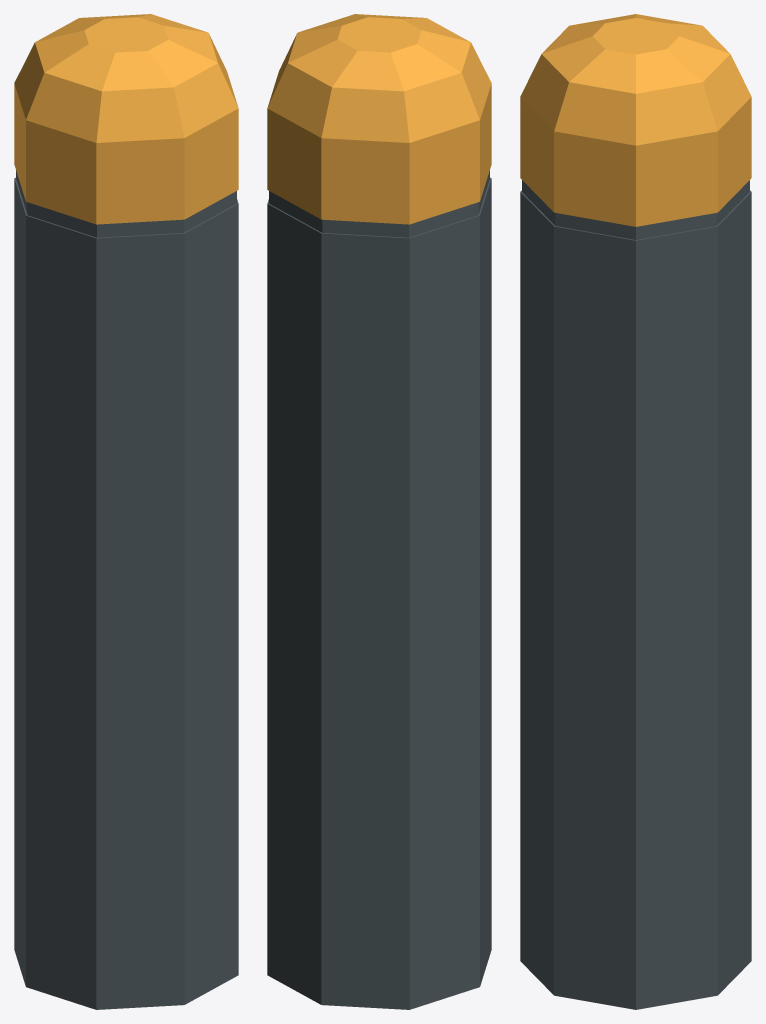
Rendered from SM_road_fence_01.glb.
The picture shows the model from 3 angles, left to right: view 1: azimuth 30°, elevation 25°; view 2: azimuth 150°, elevation 25°; view 3: azimuth 270°, elevation 25°; orthographic projection.
Parts seen in each view (by area): view 1: SM_road_fence_01; view 2: SM_road_fence_01; view 3: SM_road_fence_01.
Boxes of the visible parts, x1,y1,x2,y2 form: SM_road_fence_01: (14,14,238,1009); SM_road_fence_01: (267,14,491,1009); SM_road_fence_01: (520,14,751,1009).
Size of the model in its own units: 0.2268 by 1 by 0.2268.
1 material, 1 textured.
